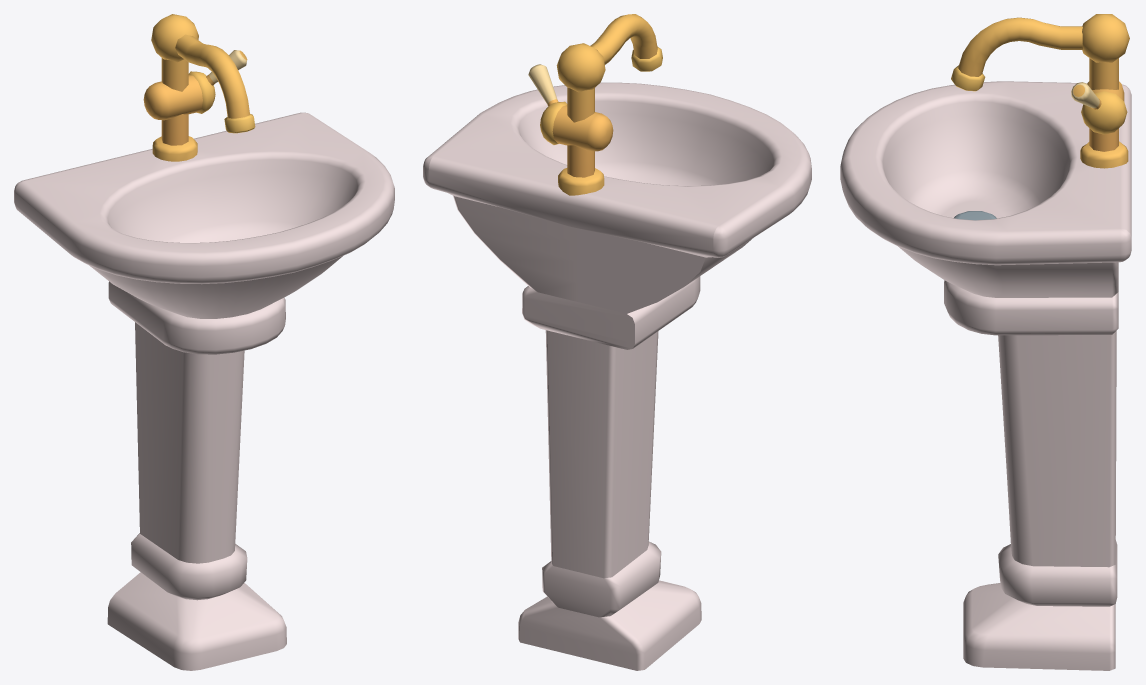
File: Wash_Basin_07.glb
3 views of the same model, side by side, from view 1: azimuth 30°, elevation 25°; view 2: azimuth 150°, elevation 25°; view 3: azimuth 270°, elevation 25° (orthographic). The views are drawn at different scales.
Parts seen in each view (by area): view 1: Wash_Basin_07; view 2: Wash_Basin_07; view 3: Wash_Basin_07.
Part boxes in pixels (x1=…): Wash_Basin_07: x1=14, y1=14, x2=394, y2=670; Wash_Basin_07: x1=423, y1=14, x2=811, y2=670; Wash_Basin_07: x1=840, y1=14, x2=1131, y2=670.
Bounding box in the file's own units: 0.602 × 1.11 × 0.4668.
Materials: 1 (1 with a texture image).
